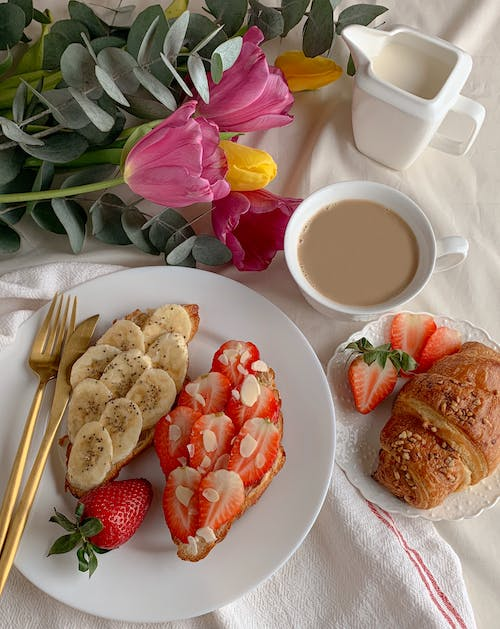knife: (0, 310, 102, 600)
